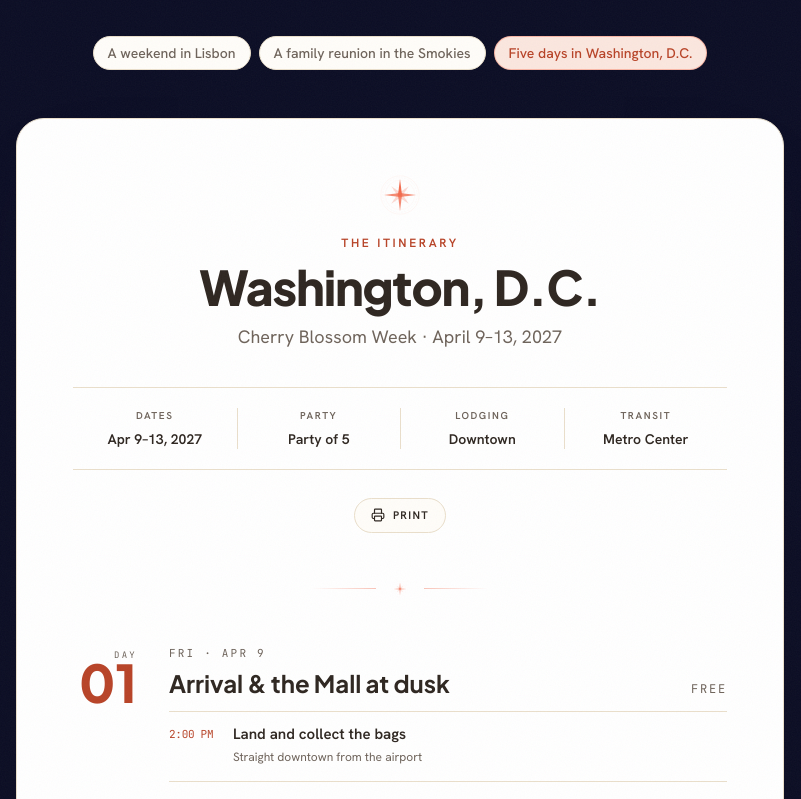
Scenario: ExamplePicker › swaps the whole itinerary when another trip is picked
Click the button "A weekend in Lisbon": x=172, y=53 [92,36,250,70]
(page scrolled)
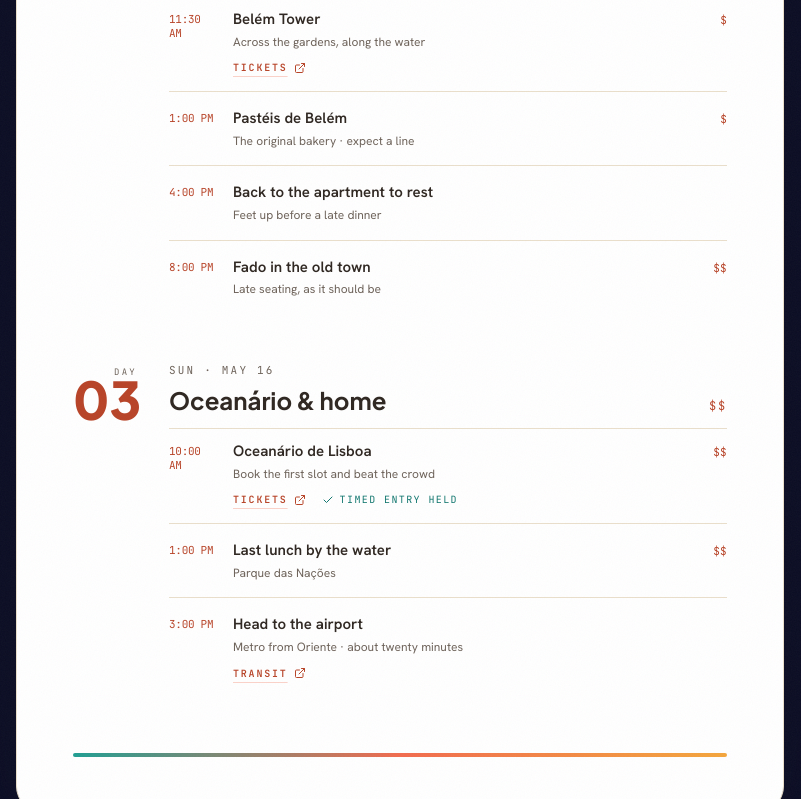
Expected: the heading "Washington, D.C." is not shown
Result: the heading "Oceanário & home" is shown at [169,385,386,415]
